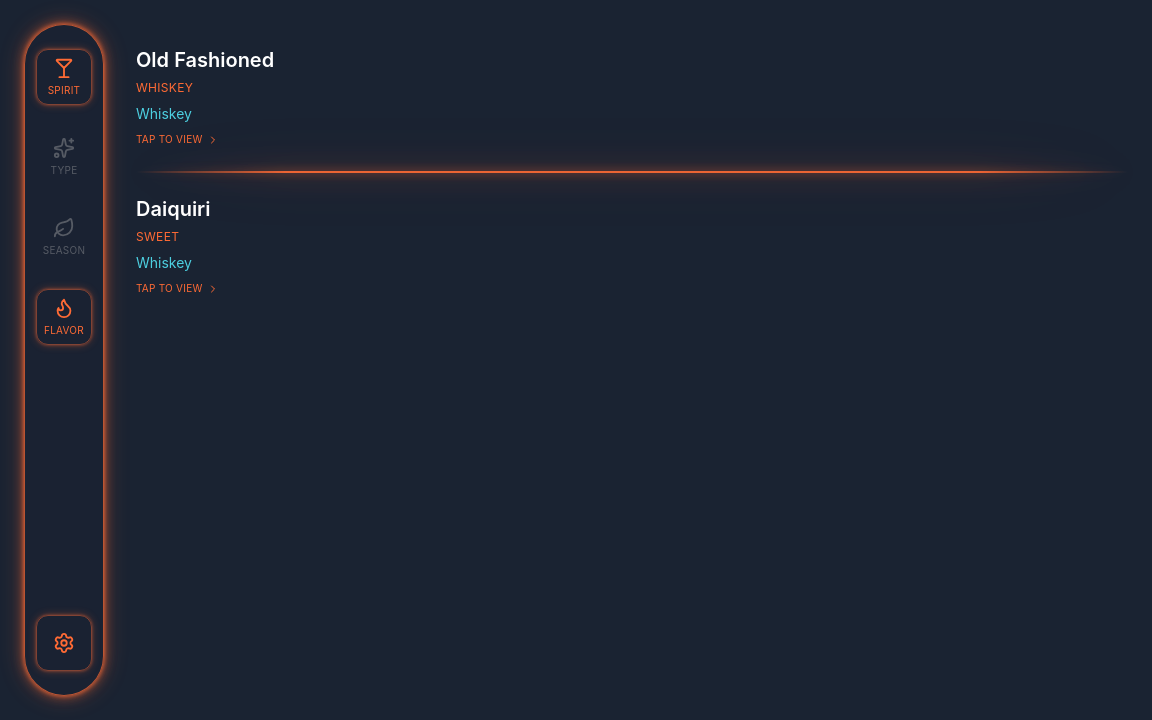
Test: RecipeBrowse › renders both recipes and filters the grid down to only the selected tag
Expected: the heading "Old Fashioned" is shown, top-left (136, 48), bottom-right (274, 72)
Expected: the heading "Daiquiri" is shown, top-left (136, 197), bottom-right (210, 221)
Click the button "Spirit": [64, 77] box top-left (36, 49), bottom-right (92, 105)
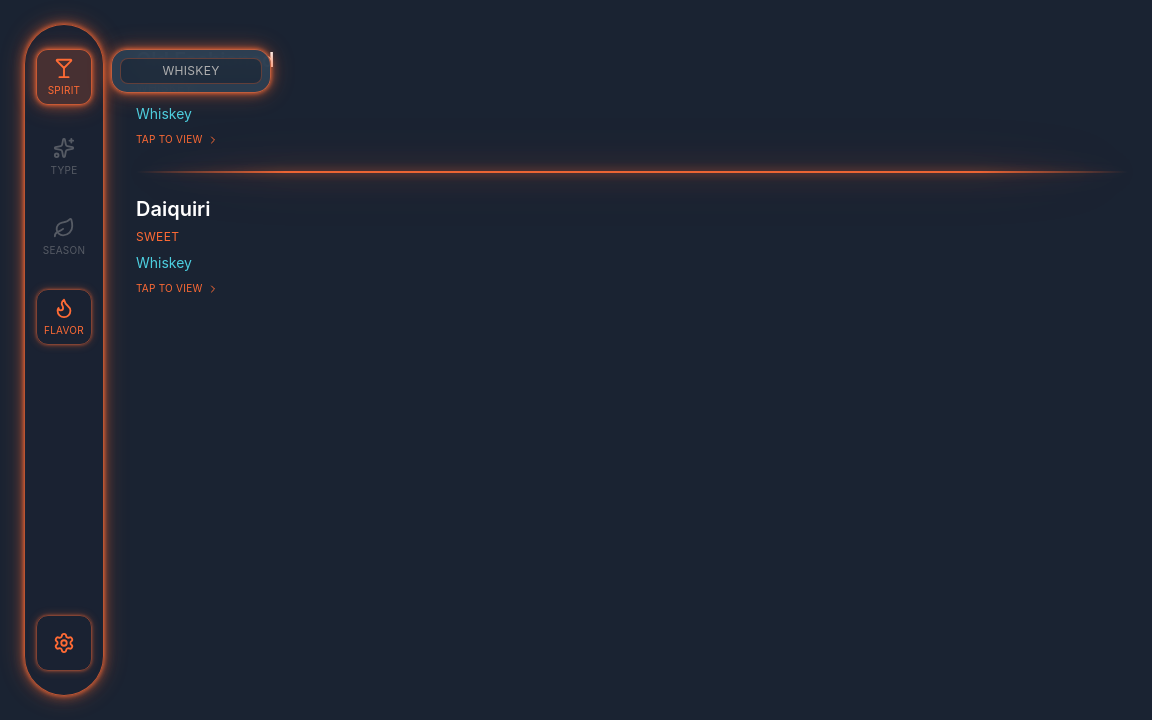
Click the button "Whiskey": [191, 71] box top-left (120, 58), bottom-right (262, 84)
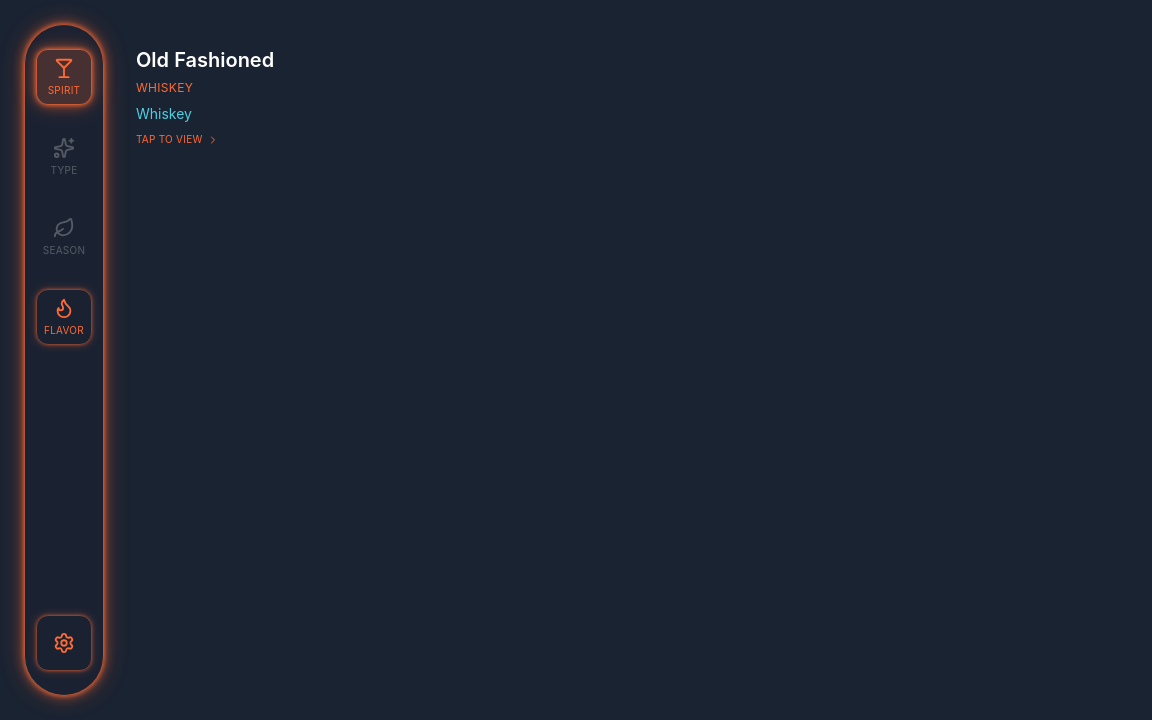
Expected: the heading "Old Fashioned" is shown, top-left (136, 48), bottom-right (274, 72)
Expected: the heading "Daiquiri" is gone
